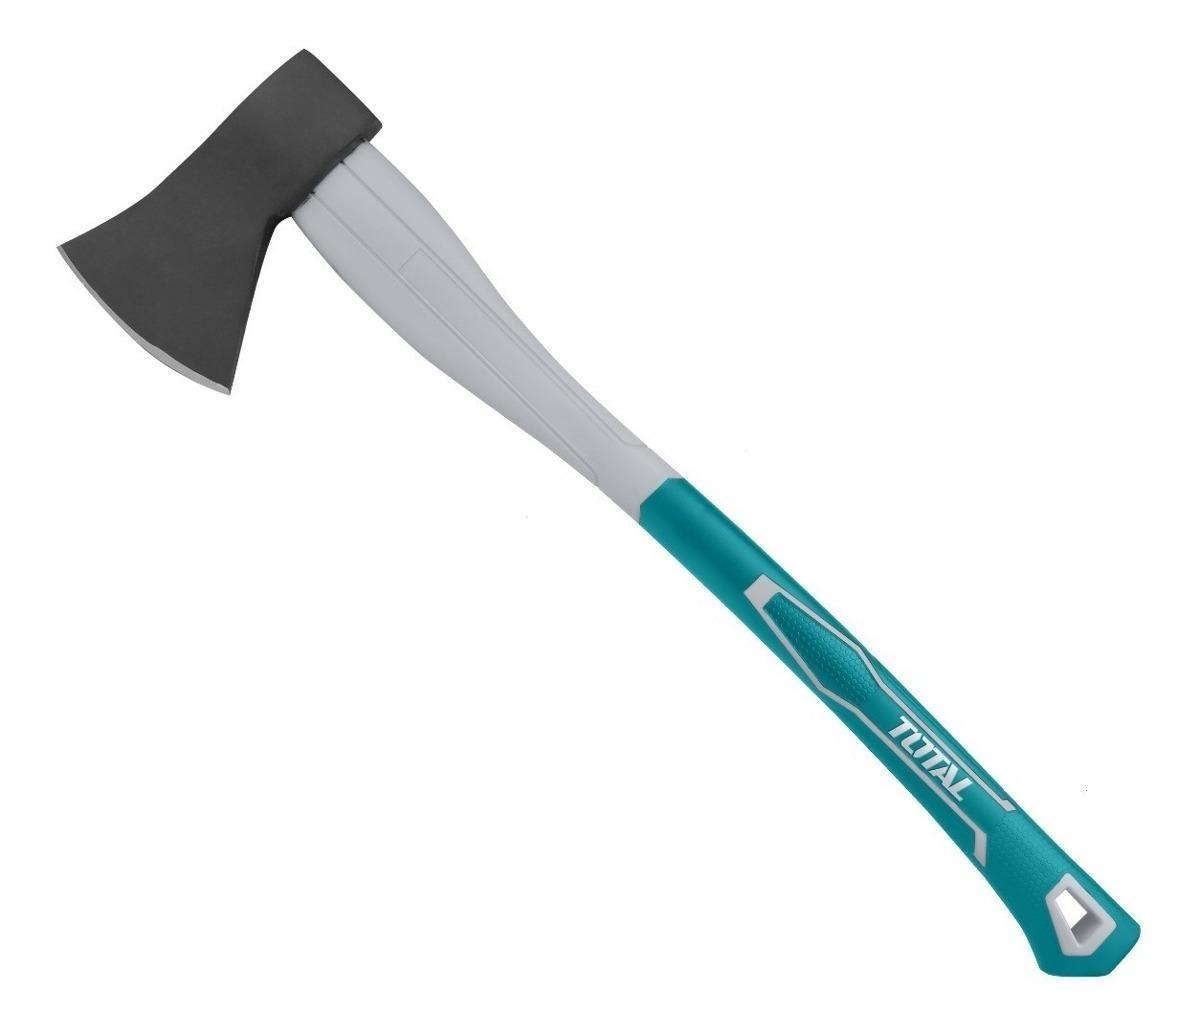machado: (60, 51, 1138, 974)
